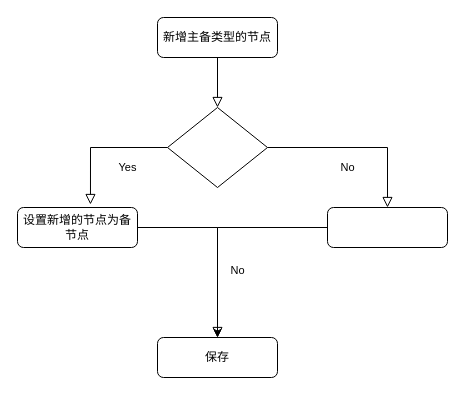
Image size: 465x395. Some labels were removed from this diagram. Here are the shapes that lost their labels. From the top down, the centre of each, then its label:
At (217,147): "判断该类型下是否已有主节点".
At (387,227): "设置新增的节点为主节点".
